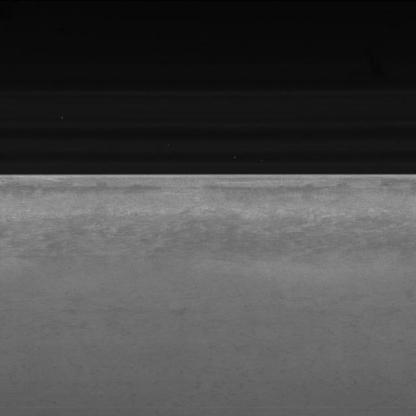silk_spot: (106, 218, 415, 262)
